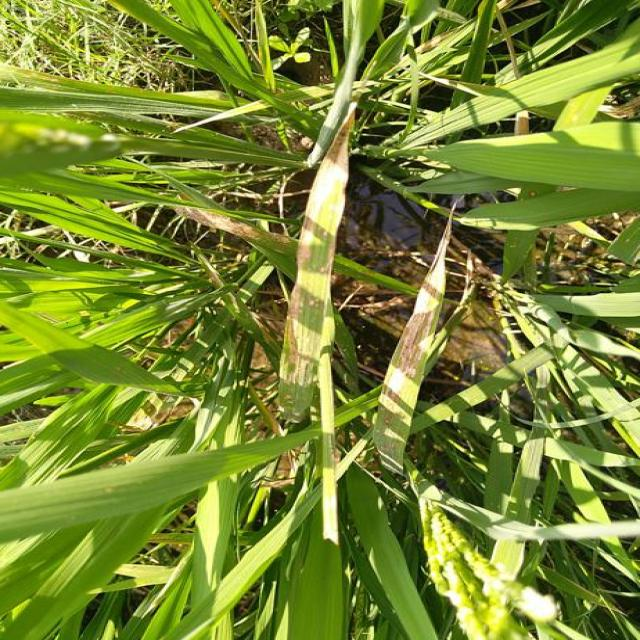Leaf Streak: (374, 199, 456, 464), (278, 142, 349, 432), (170, 199, 294, 253)
